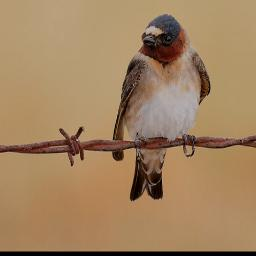Swallow: (112, 13, 212, 202)
